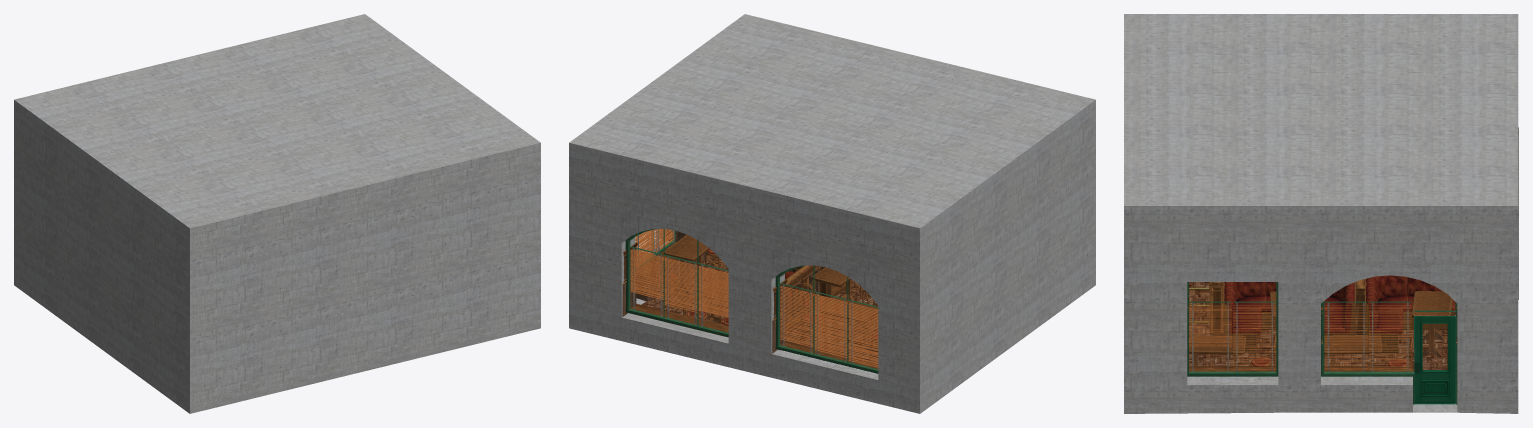
Rendered from pub.glb.
The picture shows the model from 3 angles, left to right: view 1: azimuth 30°, elevation 25°; view 2: azimuth 150°, elevation 25°; view 3: azimuth 270°, elevation 25°; orthographic projection. The views are drawn at different scales.
Parts seen in each view (by area): view 1: rest -2 1, rest 0 1, rest -1 1, rest -3 0, rest -3 -1, ceiling 0 0, ceiling -1 -1, ceiling -2 -1, ceiling -2 0; view 2: rest 0 -2, rest -2 -2, rest -3 -1, rest -3 0, rest -1 -2, ceiling 0 0, ceiling -1 -1, ceiling -2 0, ceiling -2 -1, rest -3 -2, rest 0 -1, rest -1 -1 (+2 smaller); view 3: rest 0 -1, rest 0 0, ceiling 0 0, ceiling -1 -1, ceiling -2 -1, ceiling -2 0, rest 0 -2, rest 0 1, rest -1 -1, rest -1 0, floor 0 -1, floor -1 0.
Boxes of the visible parts, x1,y1,x2,y2 form: rest -2 1: [190, 187, 359, 413]; rest 0 1: [360, 143, 540, 372]; rest -1 1: [360, 143, 540, 371]; rest -3 0: [14, 100, 189, 413]; rest -3 -1: [14, 100, 189, 413]; ceiling 0 0: [360, 14, 540, 186]; ceiling -1 -1: [184, 14, 364, 186]; ceiling -2 -1: [14, 58, 189, 227]; ceiling -2 0: [184, 58, 359, 228]; rest 0 -2: [569, 143, 749, 366]; rest -2 -2: [636, 187, 919, 413]; rest -3 -1: [920, 228, 1095, 413]; rest -3 0: [920, 100, 1095, 284]; rest -1 -2: [622, 187, 835, 377]; ceiling 0 0: [569, 14, 925, 142]; ceiling -1 -1: [569, 58, 924, 186]; ceiling -2 0: [750, 58, 1095, 186]; ceiling -2 -1: [750, 100, 1094, 228]; rest -3 -2: [878, 229, 919, 412]; rest 0 -1: [635, 229, 718, 313]; rest -1 -1: [691, 265, 862, 334]; rest 0 -1: [1125, 206, 1517, 412]; rest 0 0: [1124, 206, 1388, 413]; ceiling 0 0: [1124, 107, 1517, 307]; ceiling -1 -1: [1125, 107, 1518, 205]; ceiling -2 -1: [1125, 14, 1518, 106]; ceiling -2 0: [1124, 14, 1517, 106]; rest 0 -2: [1435, 206, 1518, 413]; rest 0 1: [1124, 206, 1187, 413]; rest -1 -1: [1221, 275, 1455, 356]; rest -1 0: [1189, 281, 1455, 353]; floor 0 -1: [1324, 329, 1457, 412]; floor -1 0: [1189, 315, 1455, 366].
Size of what is drawn, in the model's own units: 9.32 by 4.71 by 8.09.
11 materials, 11 textured.
